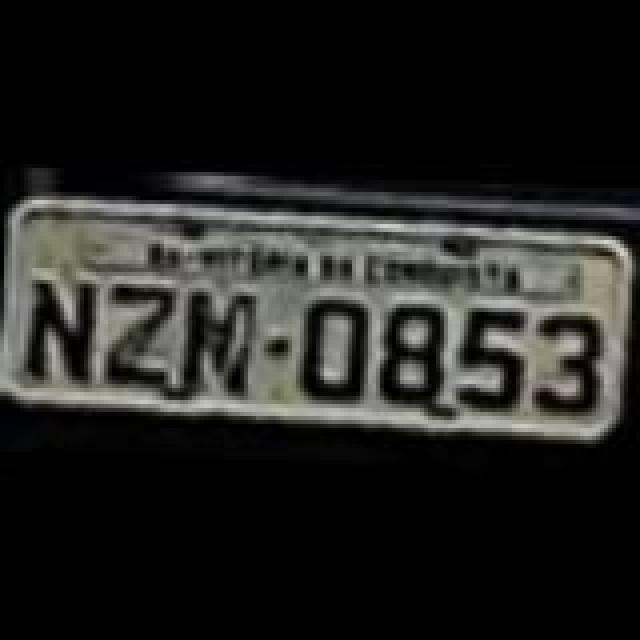3: (530, 304, 606, 416)
5: (450, 300, 526, 412)
8: (380, 296, 452, 408)
M: (182, 288, 258, 400)
N: (24, 270, 104, 386)
O: (298, 296, 374, 408)
Z: (102, 276, 178, 388)
